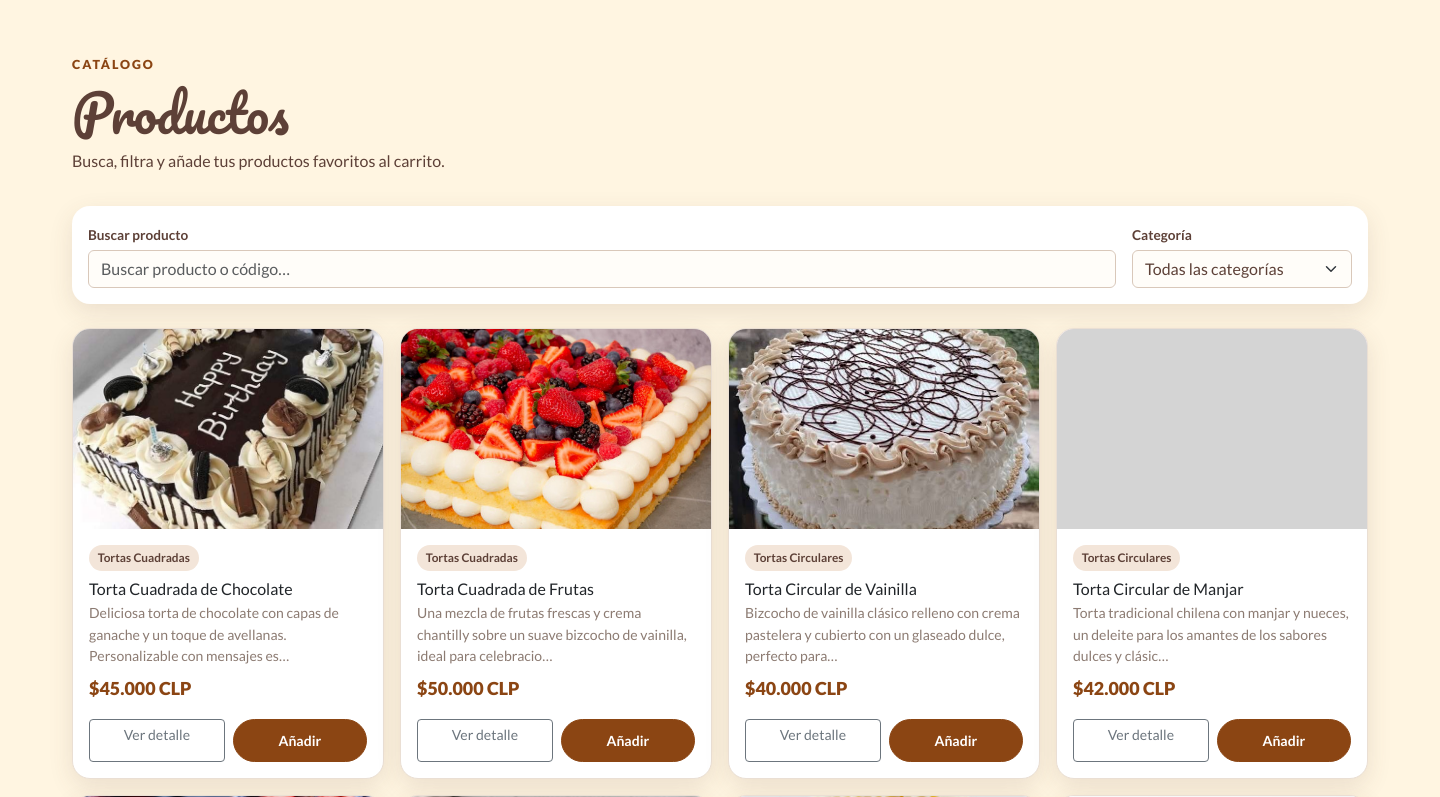
Test case: Página de Productos › filtra por categoría y muestra un estado vacío cuando no hay coincidencias
Select "Tortas Cuadradas" in the dropdown labelled "Categoría" at (1242, 269), box [1132, 250, 1352, 288]
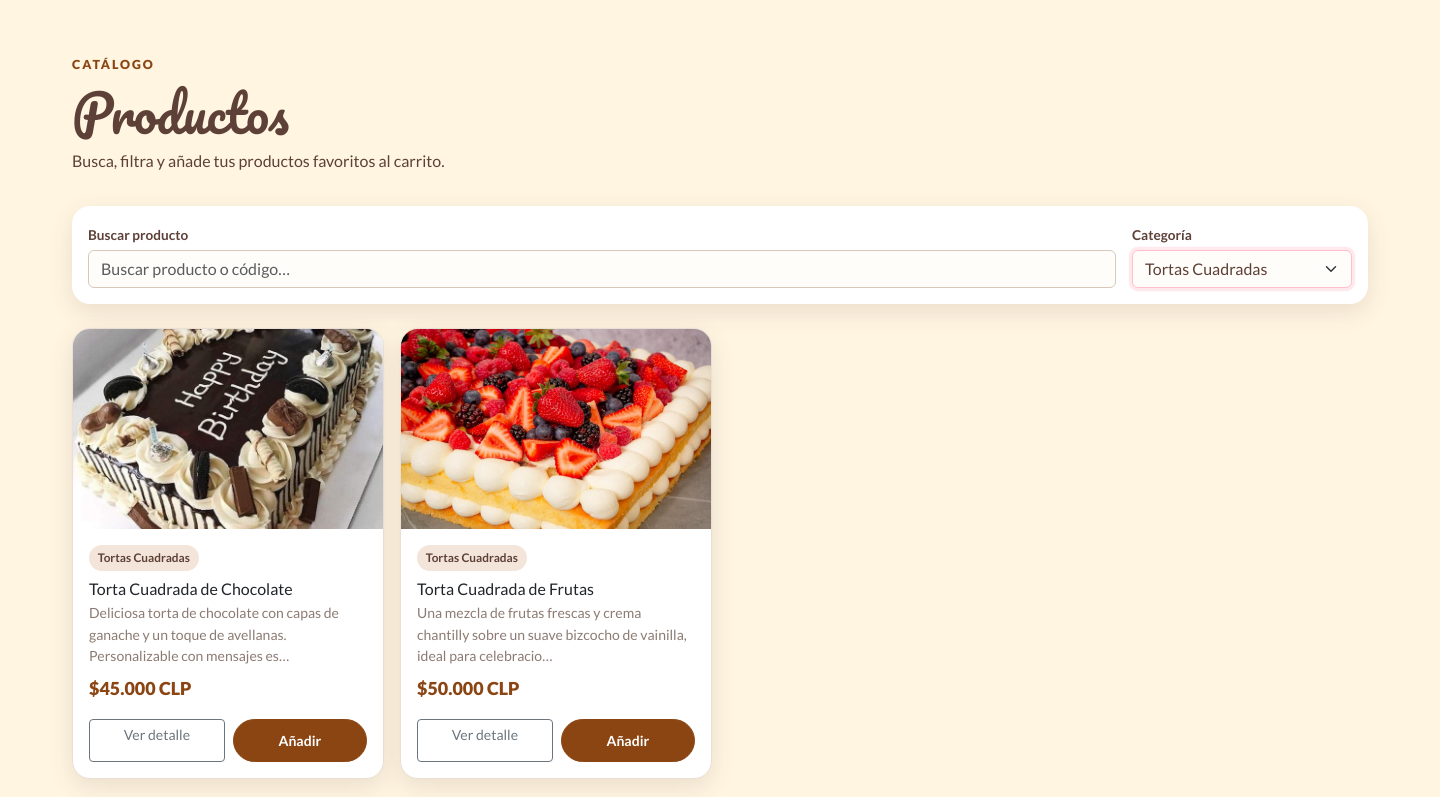
Type "producto-inexistente" into the search field labelled "Buscar producto" at (602, 269), box [88, 250, 1116, 288]
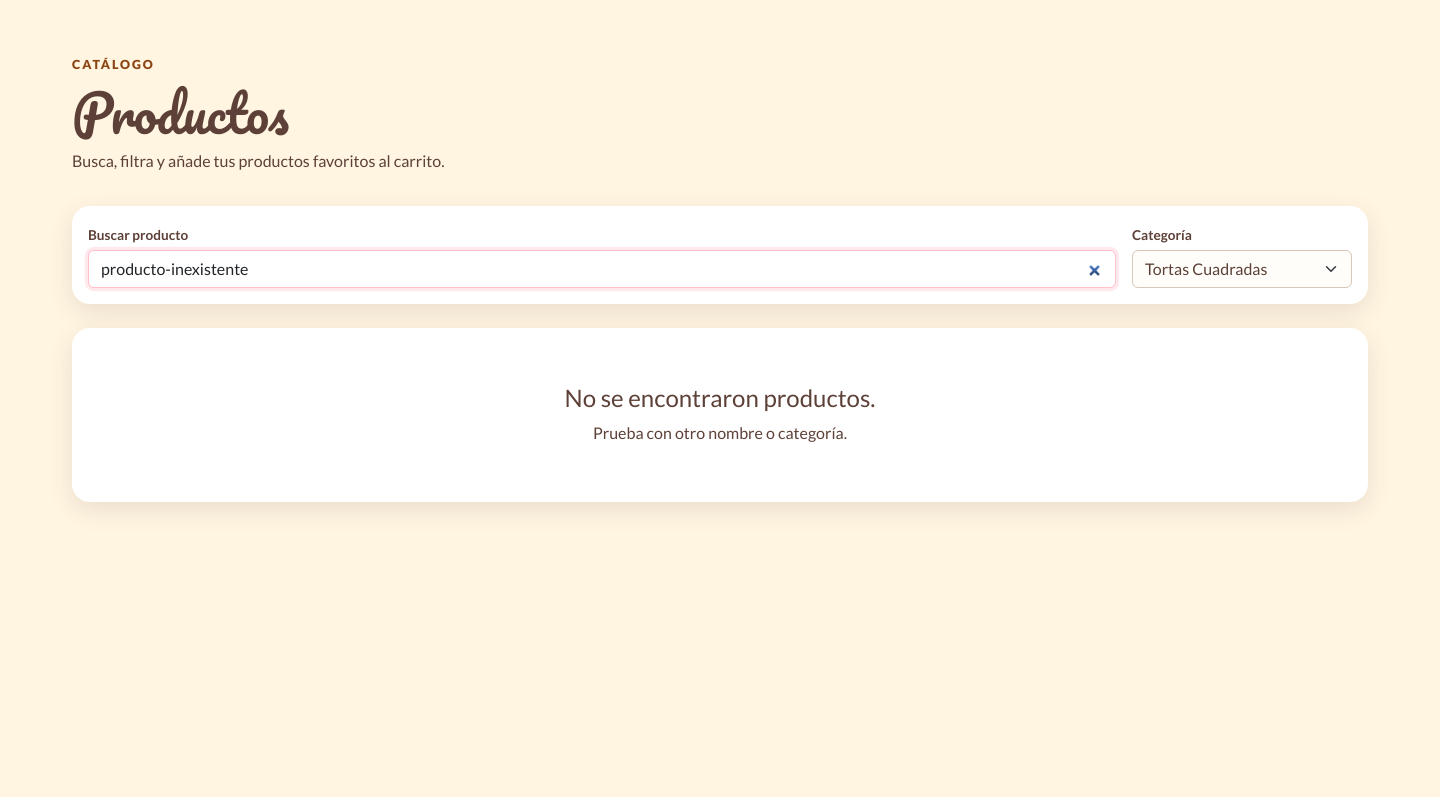
Expected: the heading "No se encontraron productos." is shown, [564, 383, 875, 412]
